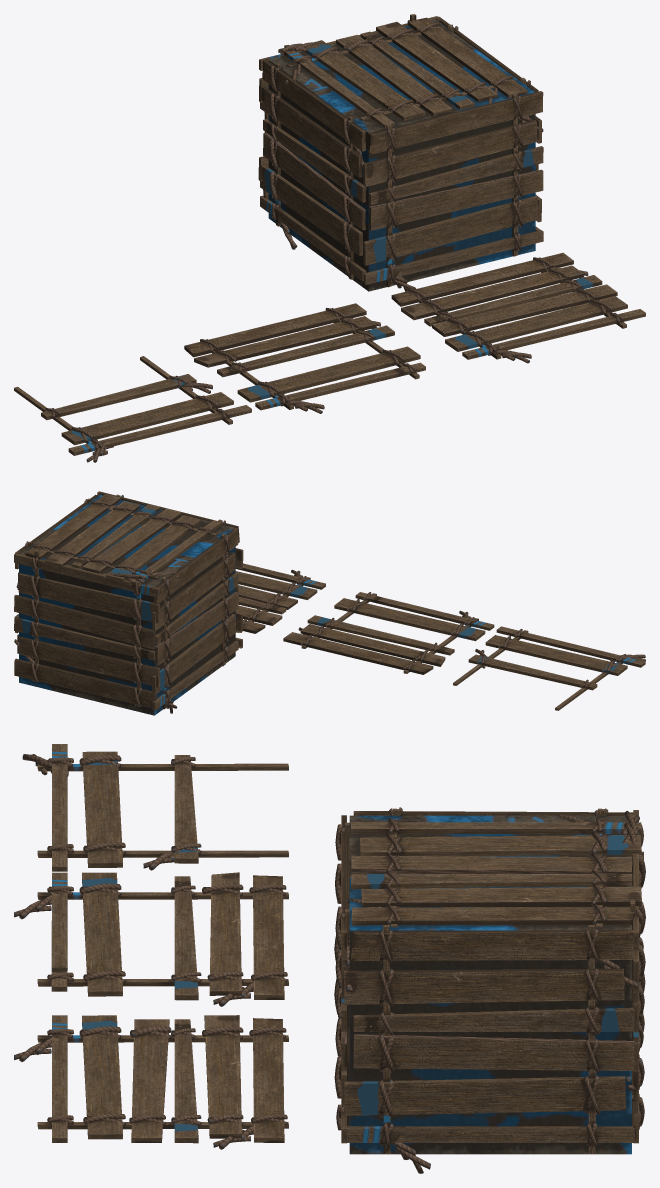
Rendered from wooden_box_-_pallet._game_asset.glb.
3 renders of one model, top to bottom at view 1: azimuth 30°, elevation 25°; view 2: azimuth 150°, elevation 25°; view 3: azimuth 270°, elevation 25°, orthographic. The views are drawn at different scales.
Parts seen in each view (by area): view 1: Cube, Circle, Circle.001, Circle.002; view 2: Cube, Circle.001, Circle.002, Circle; view 3: Cube, Circle, Circle.001, Circle.002.
Part boxes in pixels (box(x1,y1,x2,y2)): Cube: box(258, 14, 543, 291); Circle: box(391, 252, 645, 363); Circle.001: box(184, 303, 425, 413); Circle.002: box(14, 356, 251, 462); Cube: box(14, 491, 243, 715); Circle.001: box(283, 592, 494, 674); Circle.002: box(453, 626, 645, 710); Circle: box(235, 563, 325, 633); Cube: box(334, 807, 645, 1173); Circle: box(14, 1015, 288, 1149); Circle.001: box(14, 872, 288, 1006); Circle.002: box(22, 744, 288, 871).
Size of the model in its own units: 16.6 by 5.03 by 11.18.
Materials: 1 (1 with a texture image).
